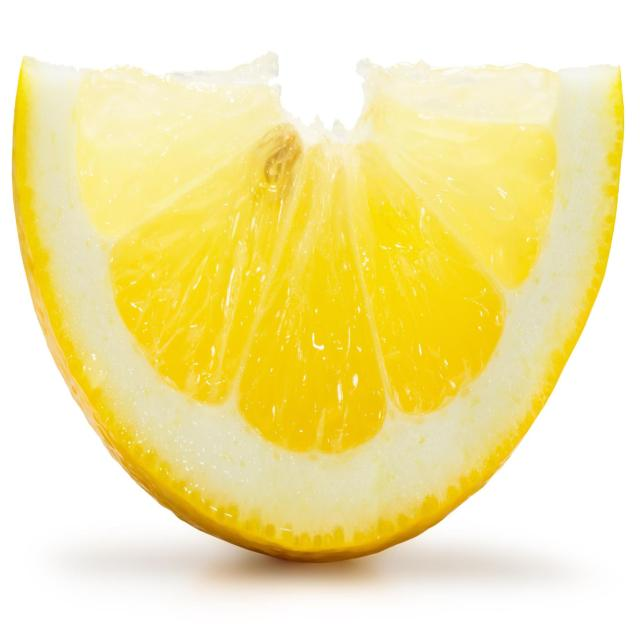lemon: (3, 50, 632, 564)
